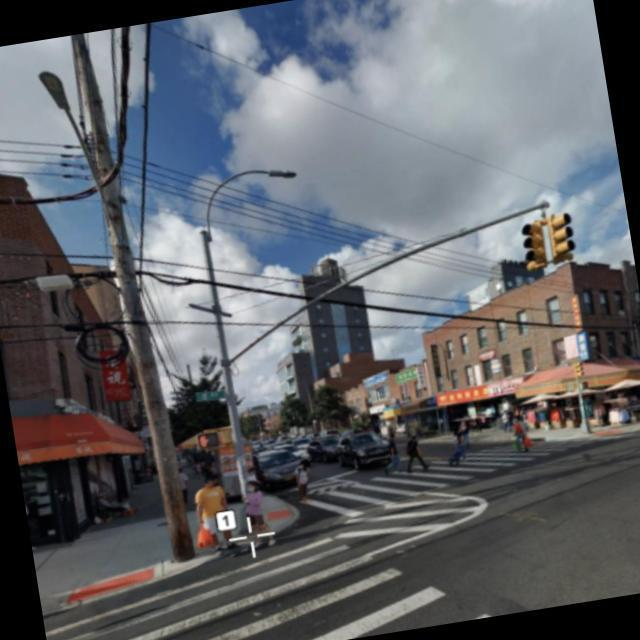off: (0, 33, 182, 258), (195, 138, 340, 282)
